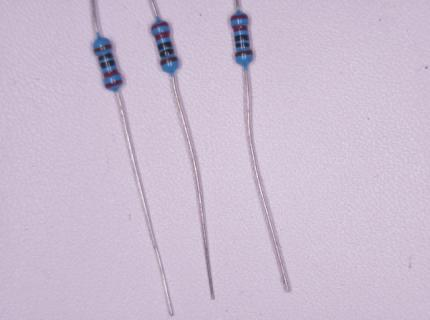Black band: (158, 41, 172, 51), (101, 59, 115, 68), (159, 49, 174, 57), (98, 53, 112, 61), (235, 34, 249, 42), (236, 43, 249, 48)
Brown band: (161, 56, 178, 65), (95, 44, 111, 53), (235, 50, 252, 57)
Red band: (104, 79, 123, 88), (103, 69, 120, 78), (152, 22, 169, 31), (155, 31, 170, 41), (234, 25, 248, 32), (231, 15, 248, 20)
